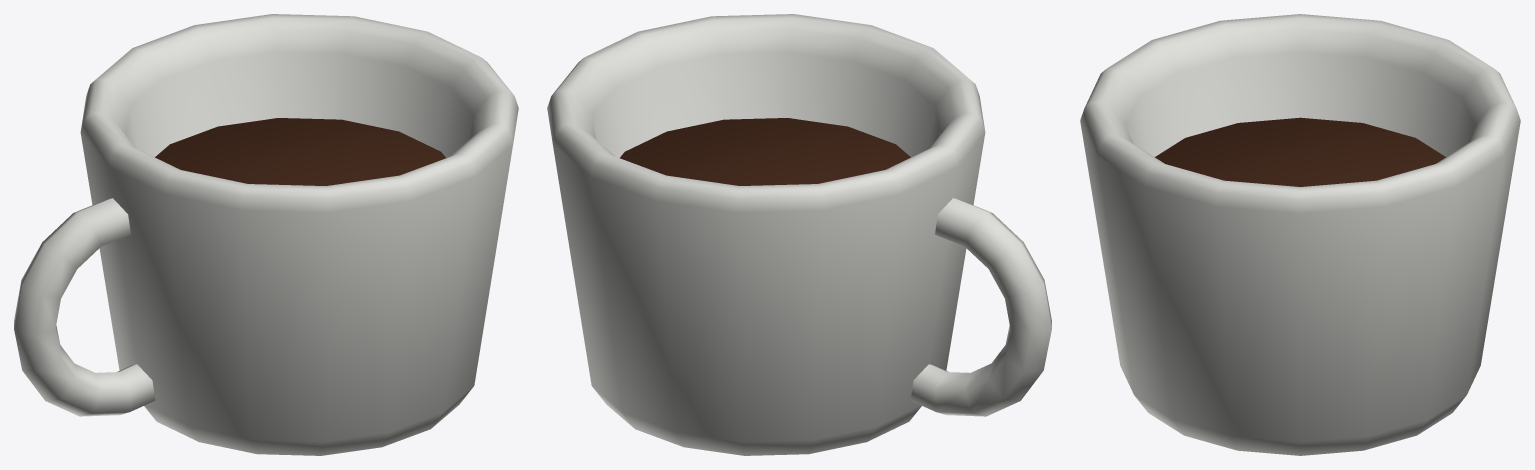
File: xicara de café.fbx
3 renders of one model, left to right at view 1: azimuth 30°, elevation 25°; view 2: azimuth 150°, elevation 25°; view 3: azimuth 270°, elevation 25°, orthographic.
Parts seen in each view (by area): view 1: Xicara, Cafe; view 2: Xicara, Cafe; view 3: Xicara, Cafe.
Part boxes in pixels (x1,y1,x2,y2): Xicara: (14,14,518,455); Cafe: (155,118,445,185); Xicara: (547,14,1051,455); Cafe: (620,118,910,185); Xicara: (1080,14,1520,455); Cafe: (1155,117,1445,186).
Size of the model in its own units: 137 by 79.74 by 110.
